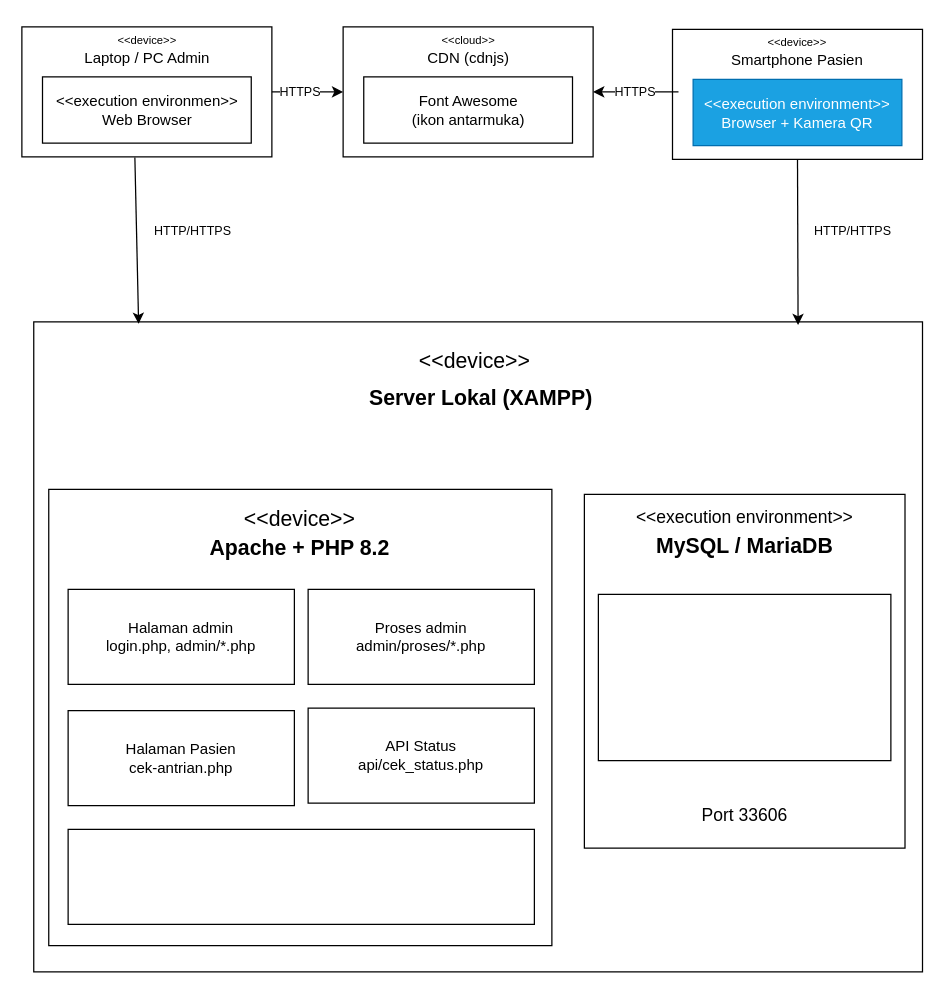
Image size: 945x994. Some labels were removed from this diagram. The shapes that lost their labels are listed below. From the top down, each one's centre as x and y in pixels, then its label:
At (x=744, y=677): "db_antrian_pasien Table users Tabel pasien".
At (x=300, y=876): "Konfigurasi dan aset config/, icludes/, css/".
